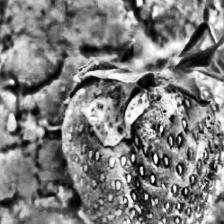Gray Mold: (77, 79, 217, 196)
